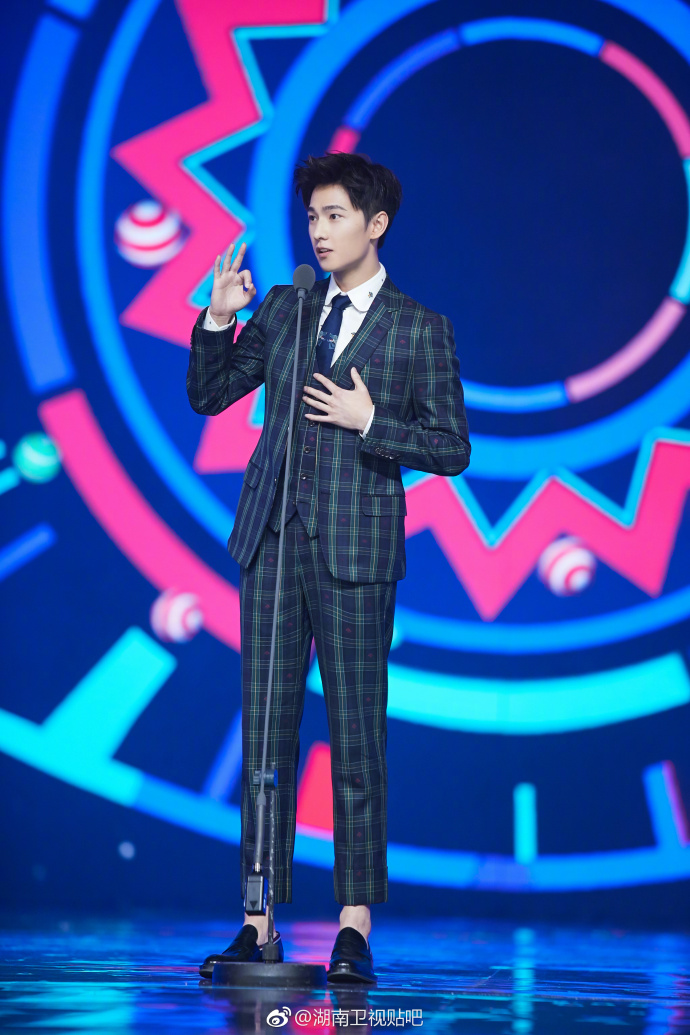handsup: (170, 147, 475, 998)
